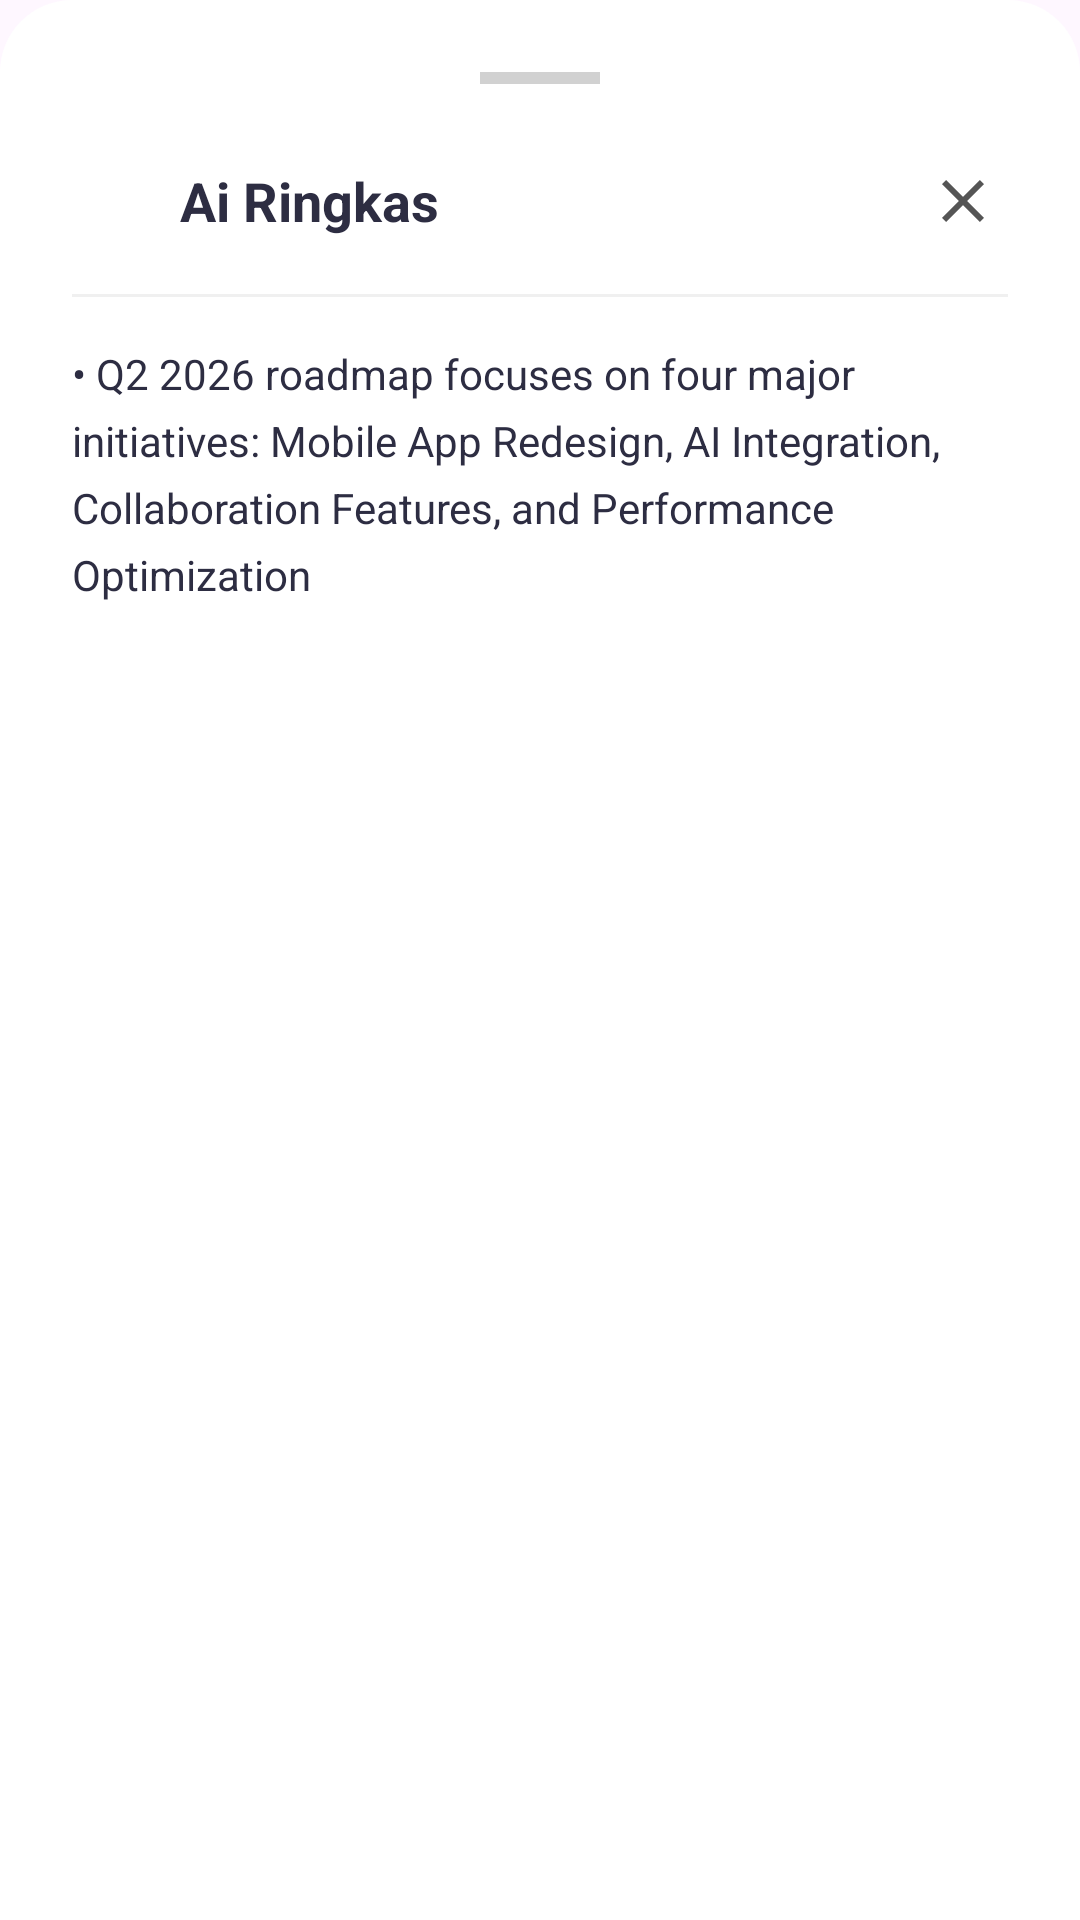

Icons on this 1080x1920 Android screen, each with its box as (x1,y1,x2,y2):
close: (942,180,984,222)
